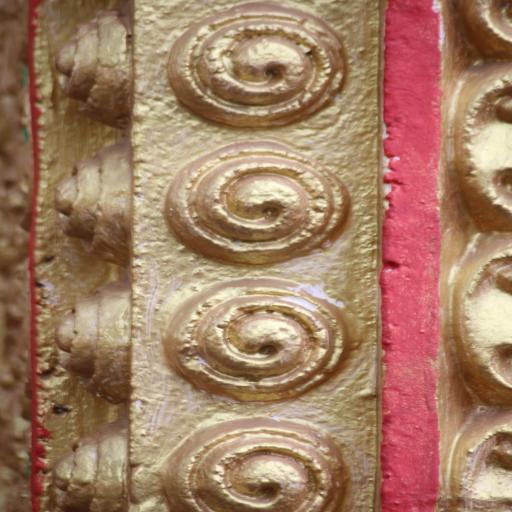hoa: (163, 265, 350, 403), (160, 137, 350, 262), (164, 1, 346, 125), (158, 416, 352, 512), (50, 4, 148, 130), (48, 140, 148, 263), (56, 277, 133, 402), (45, 426, 134, 512)
